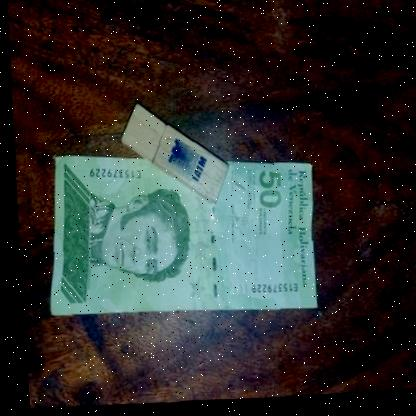fifty-front-vef: (37, 142, 319, 328)
